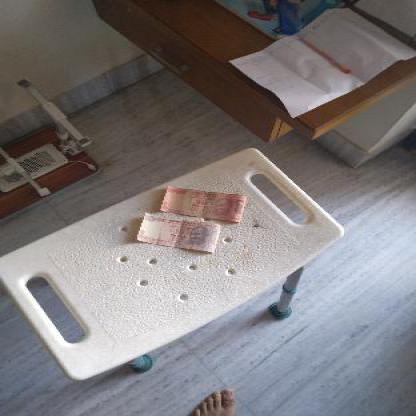Old10Front: (136, 212, 220, 252)
Old20Front: (161, 185, 244, 219)
